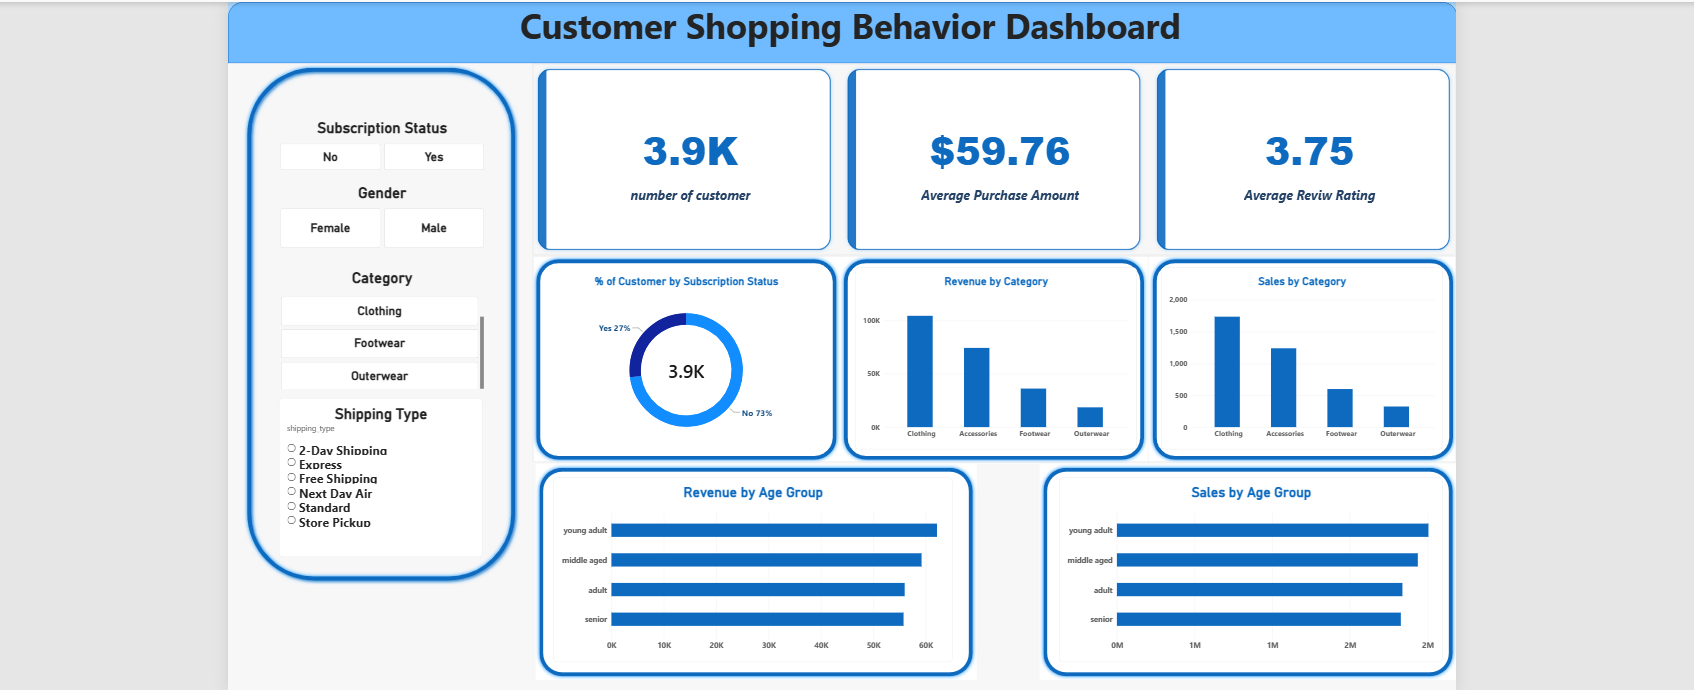

What the dashboard file says about the page in this screenshot:
{"tool":"powerbi","page":{"name":"Page 1","canvas":[2560,1440],"ordinal":0},"visuals":[{"type":"cardVisual","fields":{"Data":["public customers.number of customerv","public customers.Average Purchase Amount","public customers.Average Reviw Rating"]},"box":[634.5,127.6,1924.1,400],"z":0},{"type":"shape","box":[0,0,2562.1,127.6],"z":1000},{"type":"textbox","box":[31,0,2531,155.2],"z":2000},{"type":"shape","box":[634.5,527.6,641.6,433.6],"z":3000,"group":"g1"},{"type":"group","id":"g1","title":"Group 1","box":[634.5,527.6,1925.1,433.6],"z":3000},{"type":"donutChart","title":"% of Customer by Subscription Status","fields":{"Category":["public customers.subscription_status (groups)"],"Series":["public customers.subscription_status"],"Y":["CountNonNull(public customers.customer_id)"]},"box":[680.7,553.9,547.4,388],"z":4000,"group":"g1"},{"type":"shape","box":[640.8,962.8,919,450.1],"z":4000,"group":"g2"},{"type":"advancedSlicerVisual","title":"Subscription Status","fields":{"Values":["public customers.subscription_status"]},"box":[110.3,244.8,424.1,106.9],"z":5000},{"type":"shape","box":[31,127.6,575.9,1086.2],"z":6000},{"type":"shape","box":[1276.3,527.6,641.6,433.6],"z":6000,"group":"g1"},{"type":"advancedSlicerVisual","title":"Gender","fields":{"Values":["public customers.gender"]},"box":[110.3,379.3,424.1,134.5],"z":7000},{"type":"shape","box":[1918,527.6,641.6,433.6],"z":7000,"group":"g1"},{"type":"clusteredColumnChart","title":"Revenue by Category","fields":{"Category":["public customers.category"],"Y":["Sum(public customers.purchase_amount)"]},"box":[1306.2,553.9,587.4,378.9],"z":8000,"group":"g1"},{"type":"advancedSlicerVisual","title":"Category","fields":{"Values":["public customers.category"]},"box":[110.3,555.2,424.1,248.3],"z":8000},{"type":"clusteredColumnChart","title":"Sales by Category","fields":{"Category":["public customers.category"],"Y":["CountNonNull(public customers.customer_id)"]},"box":[1945.2,553.9,587.4,378.9],"z":9000,"group":"g1"},{"type":"listSlicer","title":"Shipping Type","fields":{"Values":["public customers.shipping_type"]},"box":[106.9,824.1,424.1,331],"z":9000},{"type":"clusteredBarChart","title":"Revenue by Age Group","fields":{"Category":["public customers.age_group"],"Y":["Sum(public customers.purchase_amount)"]},"box":[678.3,990.9,831.5,384.5],"z":10000,"group":"g2"},{"type":"shape","box":[1691.1,962.8,869,450.1],"z":11000,"group":"g2"},{"type":"clusteredBarChart","title":"Sales by Age Group","fields":{"Category":["public customers.age_group"],"Y":["Sum(public customers.customer_id)"]},"box":[1731.8,990.9,800.2,384.5],"z":12000,"group":"g2"},{"type":"group","id":"g2","title":"Group 2","box":[640.8,962.8,1919.3,450.1],"z":12001}]}

Visuals, with their boxes in screenshot pixels (x1, y1, x2, y2):
cardVisual - public customers.number of customerv x public customers.Average Purchase Amount: BBox(537, 60, 1444, 249)
shape: BBox(238, 0, 1446, 60)
textbox: BBox(253, 0, 1446, 73)
shape: BBox(537, 249, 840, 453)
"Group 1" group: BBox(537, 249, 1445, 453)
"% of Customer by Subscription Status" donutChart: BBox(559, 261, 817, 444)
shape: BBox(540, 454, 973, 666)
"Subscription Status" advancedSlicerVisual: BBox(290, 115, 490, 166)
shape: BBox(253, 60, 524, 572)
shape: BBox(840, 249, 1142, 453)
"Gender" advancedSlicerVisual: BBox(290, 179, 490, 242)
shape: BBox(1142, 249, 1445, 453)
"Revenue by Category" clusteredColumnChart: BBox(854, 261, 1131, 440)
"Category" advancedSlicerVisual: BBox(290, 262, 490, 379)
"Sales by Category" clusteredColumnChart: BBox(1155, 261, 1432, 440)
"Shipping Type" listSlicer: BBox(289, 388, 488, 544)
"Revenue by Age Group" clusteredBarChart: BBox(558, 467, 950, 648)
shape: BBox(1035, 454, 1445, 666)
"Sales by Age Group" clusteredBarChart: BBox(1054, 467, 1432, 648)
"Group 2" group: BBox(540, 454, 1445, 666)
